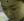without_mask: (1, 1, 24, 21)
